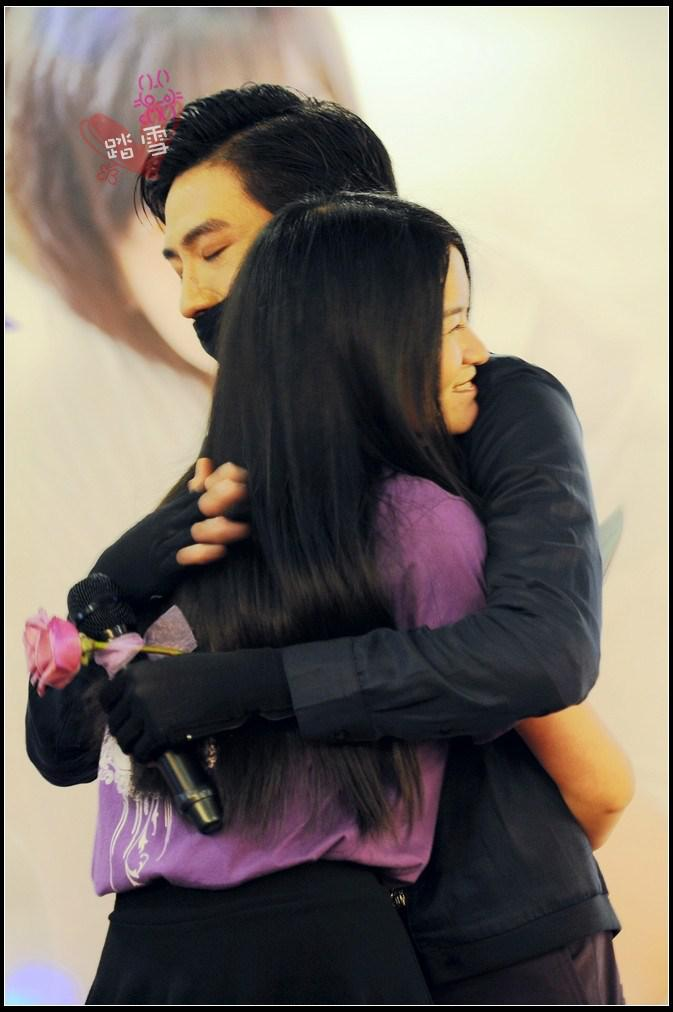NONE: (389, 279, 499, 439)
WRONG: (151, 210, 326, 385)
